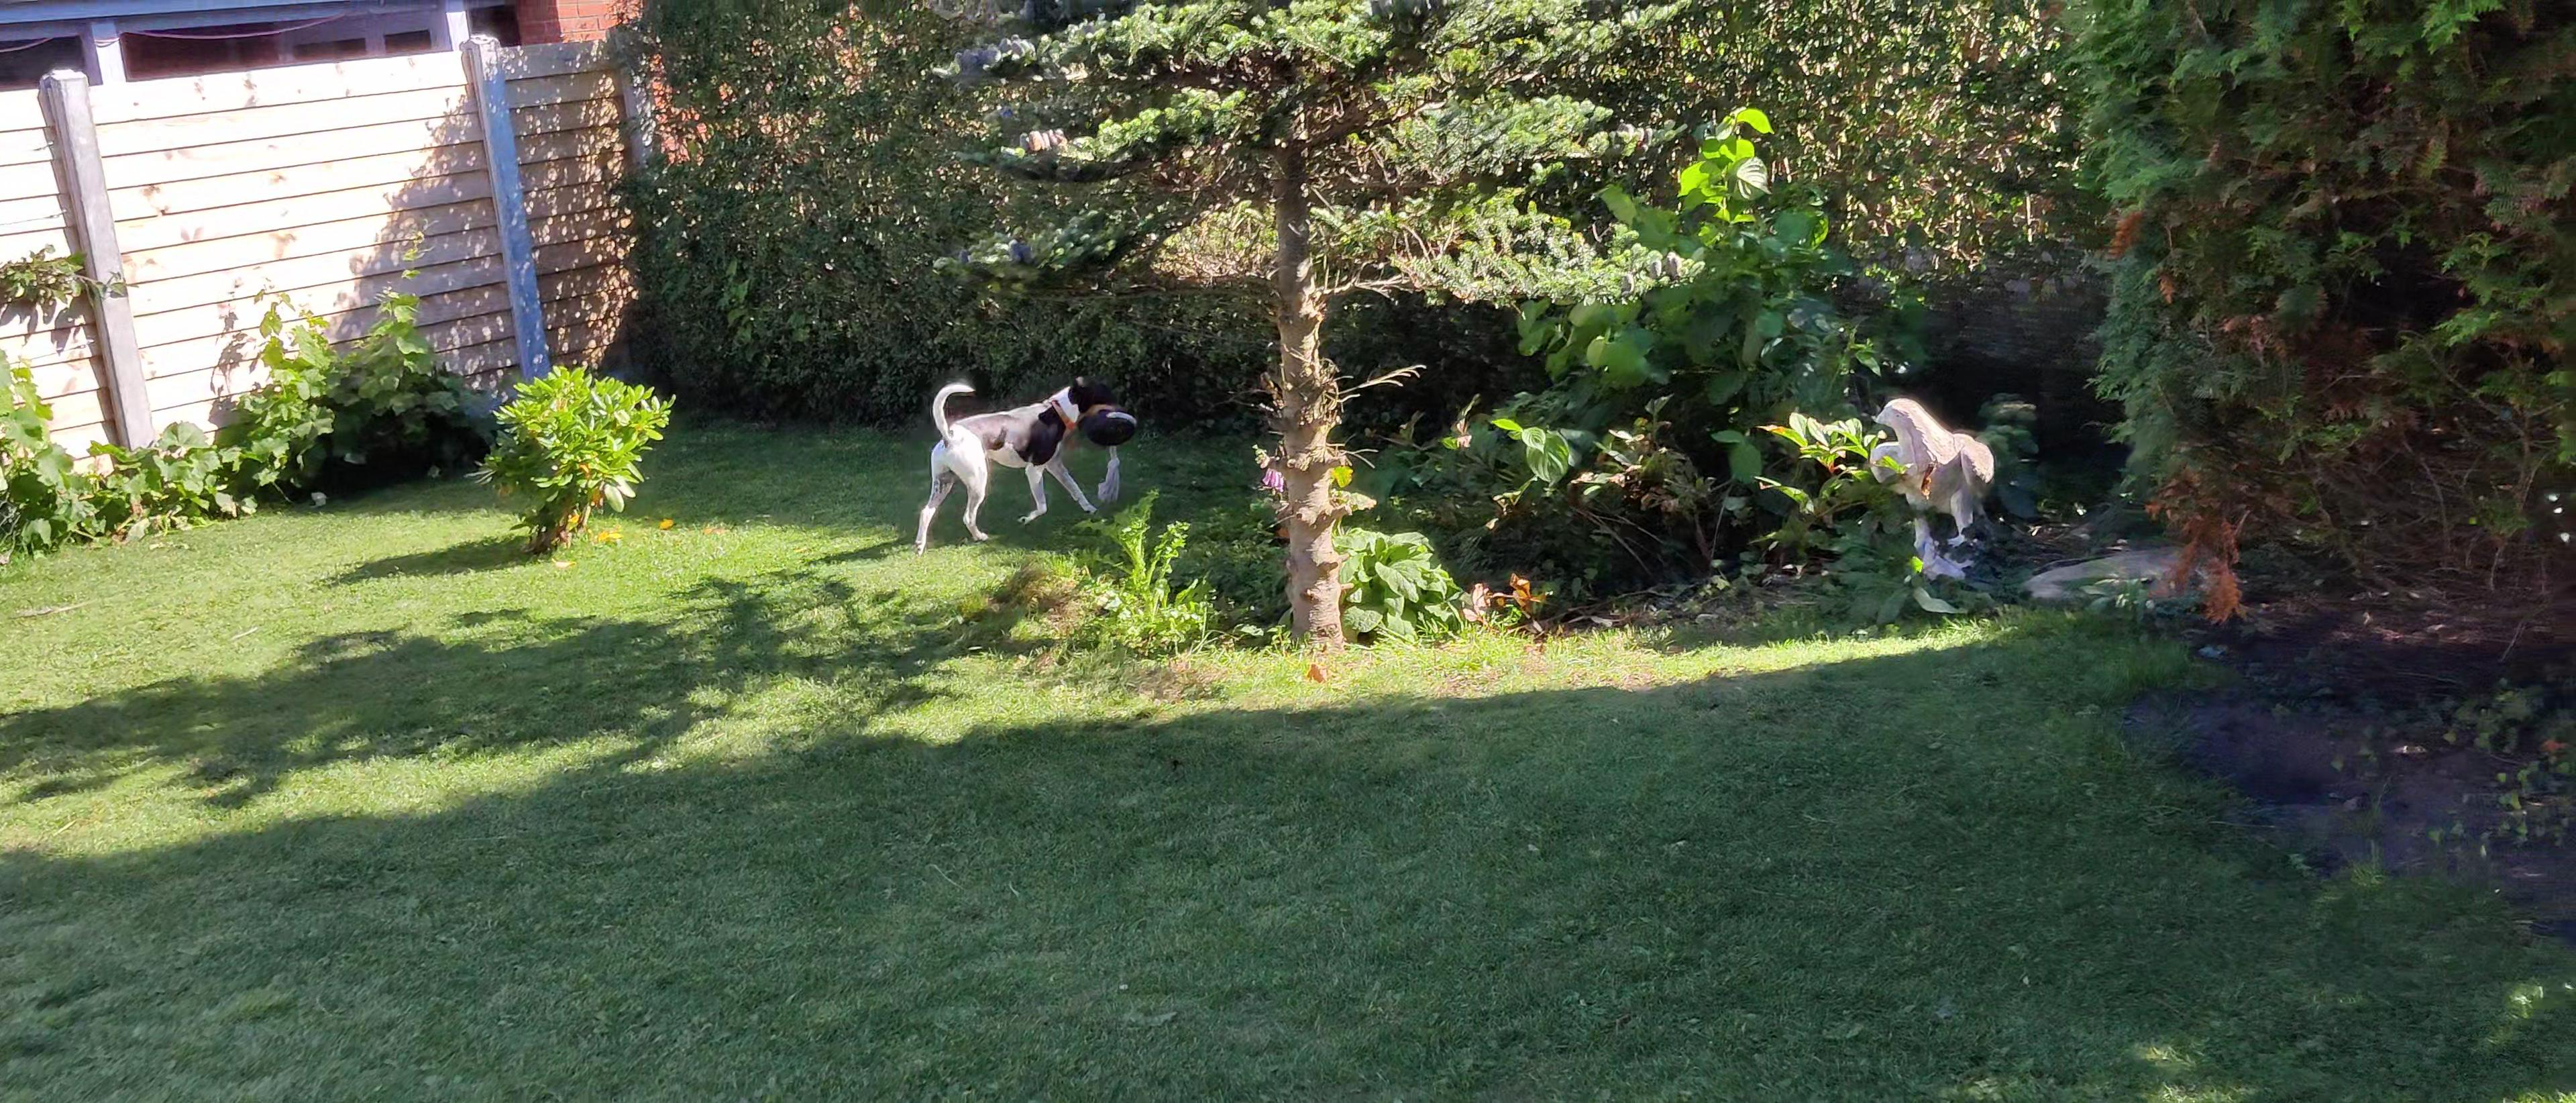Dog: (908, 365, 1132, 557)
